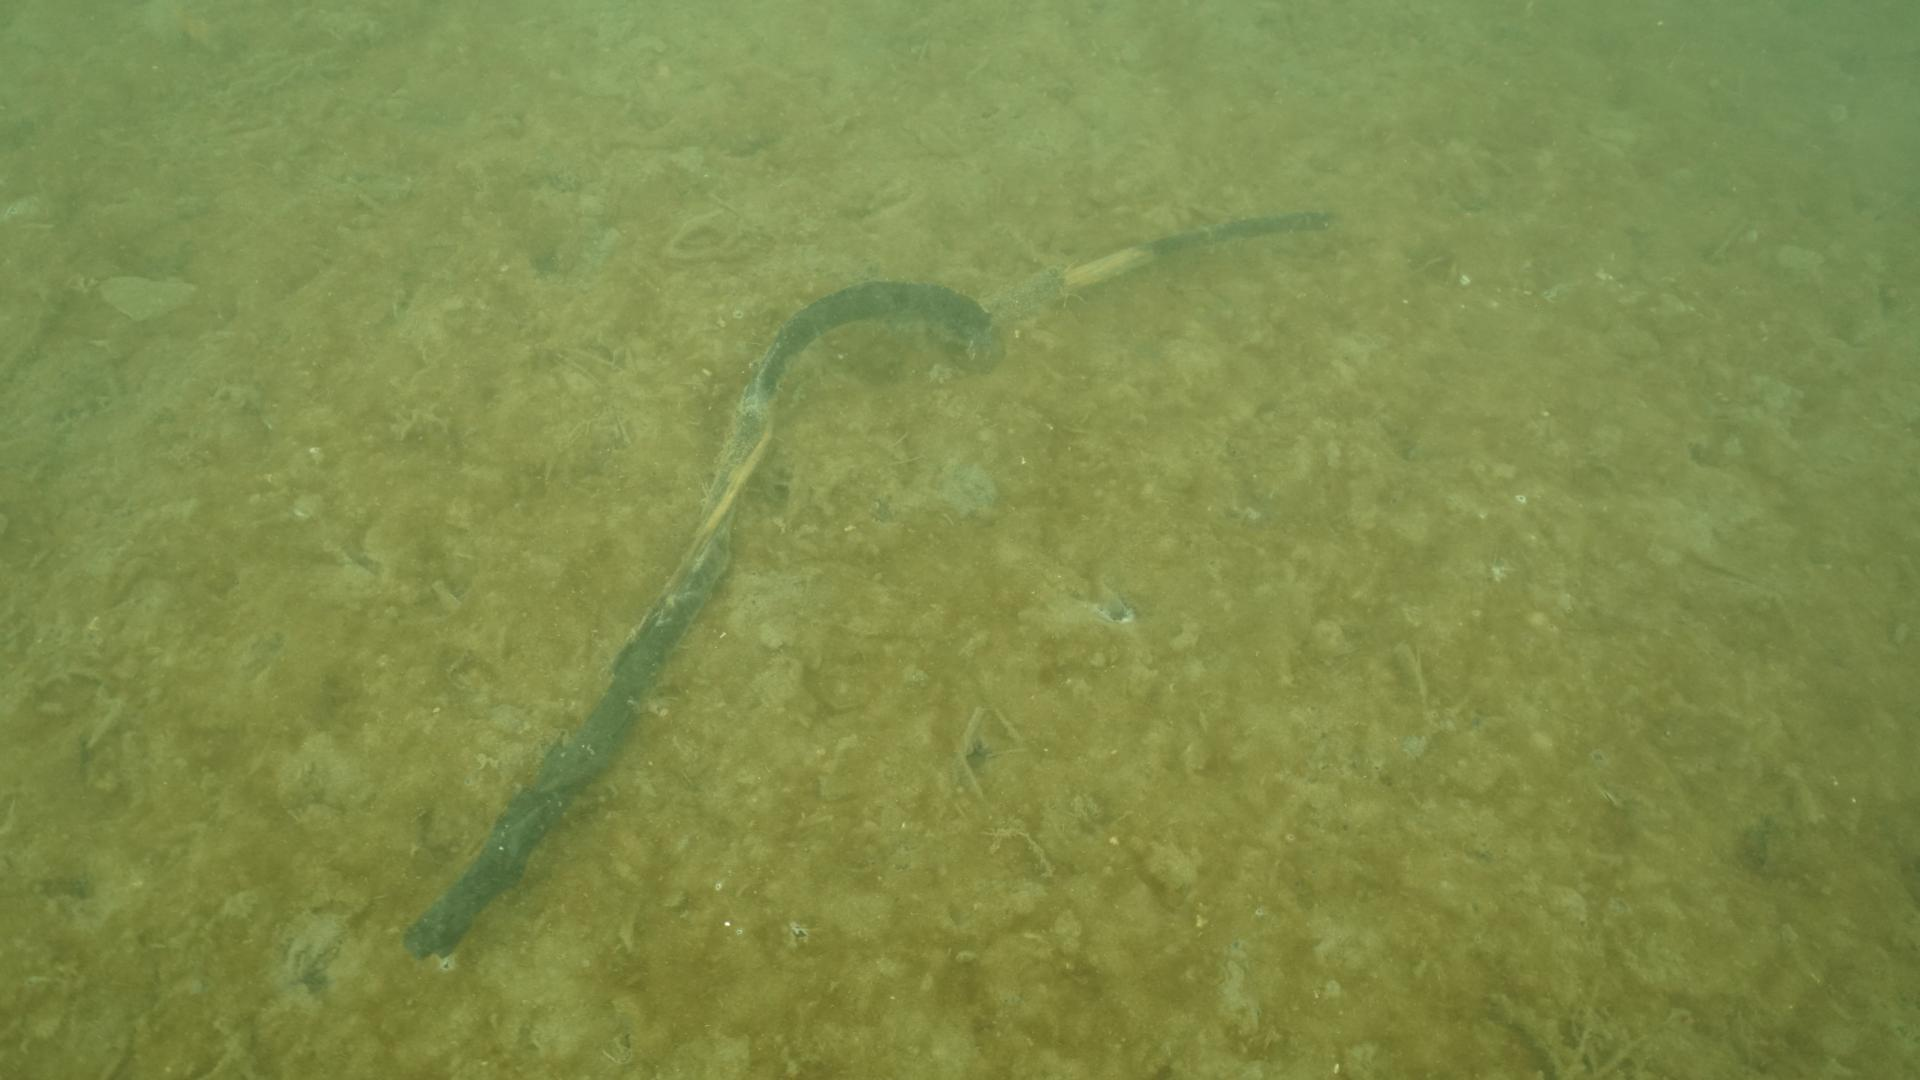wood: (401, 204, 1342, 968)
